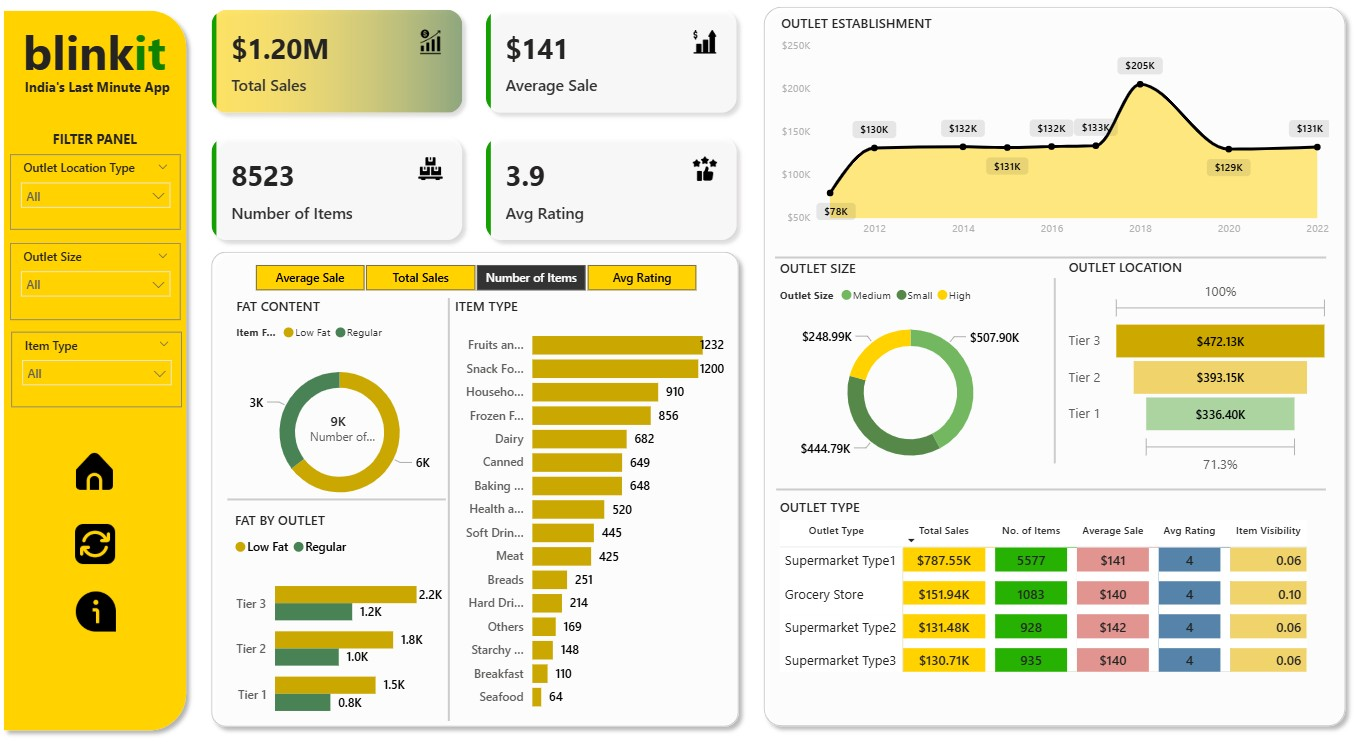

The dashboard page shown, as its layout file describes it:
{"tool":"powerbi","page":{"name":"Page 1","canvas":[1400,800],"ordinal":0},"visuals":[{"type":"shape","box":[0,29.3,203.5,750.4],"z":0},{"type":"textbox","box":[19.1,42,164.1,89],"z":1000},{"type":"textbox","box":[23.6,101.7,160.1,29.8],"z":2000},{"type":"cardVisual","fields":{"Data":["BlinkIT Grocery Data.Total Sales","BlinkIT Grocery Data.Average Sale","BlinkIT Grocery Data.Number of Items","BlinkIT Grocery Data.Avg Rating"]},"box":[203.5,20.3,569.8,269.6],"z":3000},{"type":"shape","box":[211.1,274.7,554.5,501.1],"z":4000},{"type":"donutChart","title":"FAT CONTENT","fields":{"Y":["BlinkIT Grocery Data.Number of Items"],"Category":["BlinkIT Grocery Data.Item Fat Content"]},"box":[240.7,330,220.8,230.8],"z":5000},{"type":"slicer","fields":{"Values":["Metrics.Metrics"]},"box":[239.1,290,498.5,39.4],"z":6000},{"type":"cardVisual","fields":{"Data":["BlinkIT Grocery Data.Number of Items"]},"box":[288.4,422.2,121.9,82.6],"z":7000},{"type":"clusteredBarChart","title":"FAT BY OUTLET","fields":{"Y":["BlinkIT Grocery Data.Number of Items"],"Category":["BlinkIT Grocery Data.Outlet Location Type"],"Series":["BlinkIT Grocery Data.Item Fat Content"]},"box":[239.5,547.1,220.8,229.5],"z":8000},{"type":"shape","box":[237,517.4,222.1,36],"z":9000},{"type":"shape","box":[440.4,331.3,43.4,430.5],"z":10000},{"type":"barChart","title":"ITEM TYPE","fields":{"Y":["BlinkIT Grocery Data.Number of Items"],"Category":["BlinkIT Grocery Data.Item Type"]},"box":[462.8,328.8,284.1,431.8],"z":11000},{"type":"shape","box":[773.6,24.9,609.7,750],"z":12000},{"type":"lineChart","title":"OUTLET ESTABLISHMENT","fields":{"Y":["BlinkIT Grocery Data.Total Sales"],"Category":["BlinkIT Grocery Data.Outlet Establishment Year"]},"box":[794.5,42,567.7,234.7],"z":13000},{"type":"donutChart","title":"OUTLET SIZE","fields":{"Y":["BlinkIT Grocery Data.Total Sales"],"Category":["BlinkIT Grocery Data.Outlet Size"]},"box":[793.6,291.2,276,226.4],"z":14000},{"type":"funnel","title":"OUTLET LOCATION","fields":{"Y":["BlinkIT Grocery Data.Total Sales"],"Category":["BlinkIT Grocery Data.Outlet Location Type"]},"box":[1086.9,290.3,275.4,225.8],"z":15000},{"type":"shape","box":[794,244.4,560.8,90.6],"z":16000},{"type":"shape","box":[967.7,310.2,220.8,188.6],"z":17000},{"type":"shape","box":[795.3,459.1,559.6,132.8],"z":18000},{"type":"pivotTable","title":"OUTLET TYPE","fields":{"Rows":["BlinkIT Grocery Data.Outlet Type"],"Values":["BlinkIT Grocery Data.Total Sales","BlinkIT Grocery Data.Number of Items","BlinkIT Grocery Data.Average Sale","BlinkIT Grocery Data.Avg Rating","Avg(BlinkIT Grocery Data.Item Visibility)"]},"box":[794,534.7,568.2,206],"z":19000},{"type":"slicer","fields":{"Values":["BlinkIT Grocery Data.Outlet Location Type"]},"box":[14.9,184.9,173.7,76.9],"z":20000},{"type":"slicer","fields":{"Values":["BlinkIT Grocery Data.Outlet Size"]},"box":[14.9,274.2,173.7,78.2],"z":21000},{"type":"slicer","fields":{"Values":["BlinkIT Grocery Data.Item Type"]},"box":[16.1,364.8,173.7,76.9],"z":22000},{"type":"textbox","box":[21.1,155.1,160.1,29.8],"z":23000},{"type":"image","box":[77.6,479.5,47.1,54.7],"z":24000},{"type":"image","box":[75,555.8,53.4,50.9],"z":25000},{"type":"image","box":[75,624.5,54.7,50.9],"z":26000}]}

Visuals, with their boxes on the page's 1400x800 design canvas (x1, y1, x2, y2). These are canvas units, not pixel positions in the 1355x744 screenshot, which may show the page scaled, cropped or inside an application window:
shape: [x1=0, y1=29, x2=204, y2=780]
textbox: [x1=19, y1=42, x2=183, y2=131]
textbox: [x1=24, y1=102, x2=184, y2=132]
cardVisual - BlinkIT Grocery Data.Total Sales x BlinkIT Grocery Data.Average Sale: [x1=204, y1=20, x2=773, y2=290]
shape: [x1=211, y1=275, x2=766, y2=776]
"FAT CONTENT" donutChart: [x1=241, y1=330, x2=462, y2=561]
slicer - Metrics.Metrics: [x1=239, y1=290, x2=738, y2=329]
cardVisual - BlinkIT Grocery Data.Number of Items: [x1=288, y1=422, x2=410, y2=505]
"FAT BY OUTLET" clusteredBarChart: [x1=240, y1=547, x2=460, y2=777]
shape: [x1=237, y1=517, x2=459, y2=553]
shape: [x1=440, y1=331, x2=484, y2=762]
"ITEM TYPE" barChart: [x1=463, y1=329, x2=747, y2=761]
shape: [x1=774, y1=25, x2=1383, y2=775]
"OUTLET ESTABLISHMENT" lineChart: [x1=794, y1=42, x2=1362, y2=277]
"OUTLET SIZE" donutChart: [x1=794, y1=291, x2=1070, y2=518]
"OUTLET LOCATION" funnel: [x1=1087, y1=290, x2=1362, y2=516]
shape: [x1=794, y1=244, x2=1355, y2=335]
shape: [x1=968, y1=310, x2=1188, y2=499]
shape: [x1=795, y1=459, x2=1355, y2=592]
"OUTLET TYPE" pivotTable: [x1=794, y1=535, x2=1362, y2=741]
slicer - BlinkIT Grocery Data.Outlet Location Type: [x1=15, y1=185, x2=189, y2=262]
slicer - BlinkIT Grocery Data.Outlet Size: [x1=15, y1=274, x2=189, y2=352]
slicer - BlinkIT Grocery Data.Item Type: [x1=16, y1=365, x2=190, y2=442]
textbox: [x1=21, y1=155, x2=181, y2=185]
image: [x1=78, y1=480, x2=125, y2=534]
image: [x1=75, y1=556, x2=128, y2=607]
image: [x1=75, y1=624, x2=130, y2=675]
